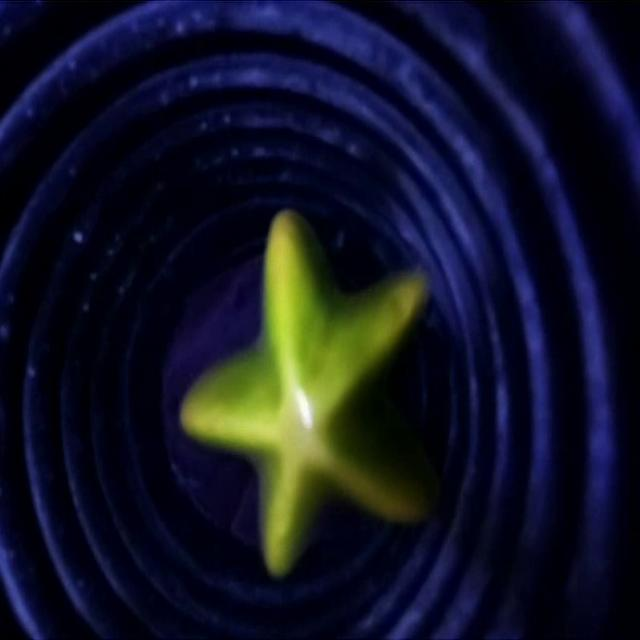block: (180, 251, 258, 355)
obstacles: (189, 209, 427, 561)
